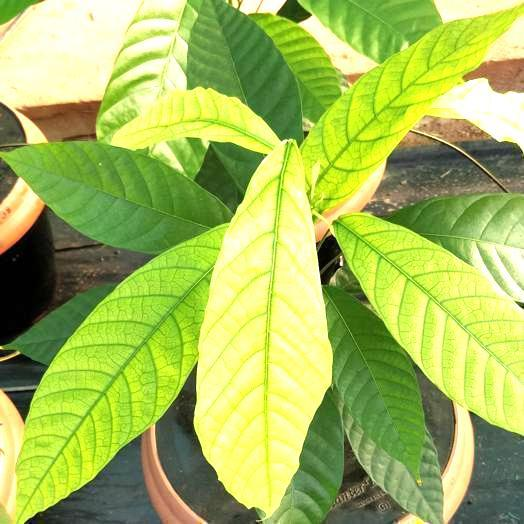Healthy Leaf: (2, 141, 230, 254), (324, 287, 424, 465), (389, 194, 523, 302), (257, 389, 343, 523), (343, 409, 442, 523), (6, 284, 115, 365)
Iron: (16, 226, 225, 523), (194, 141, 332, 515), (302, 4, 523, 211), (334, 214, 523, 433), (111, 87, 278, 153)
